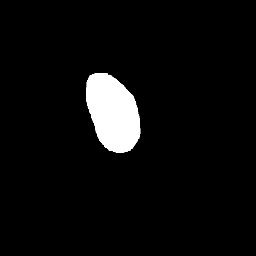mass: (85, 73, 137, 152)
